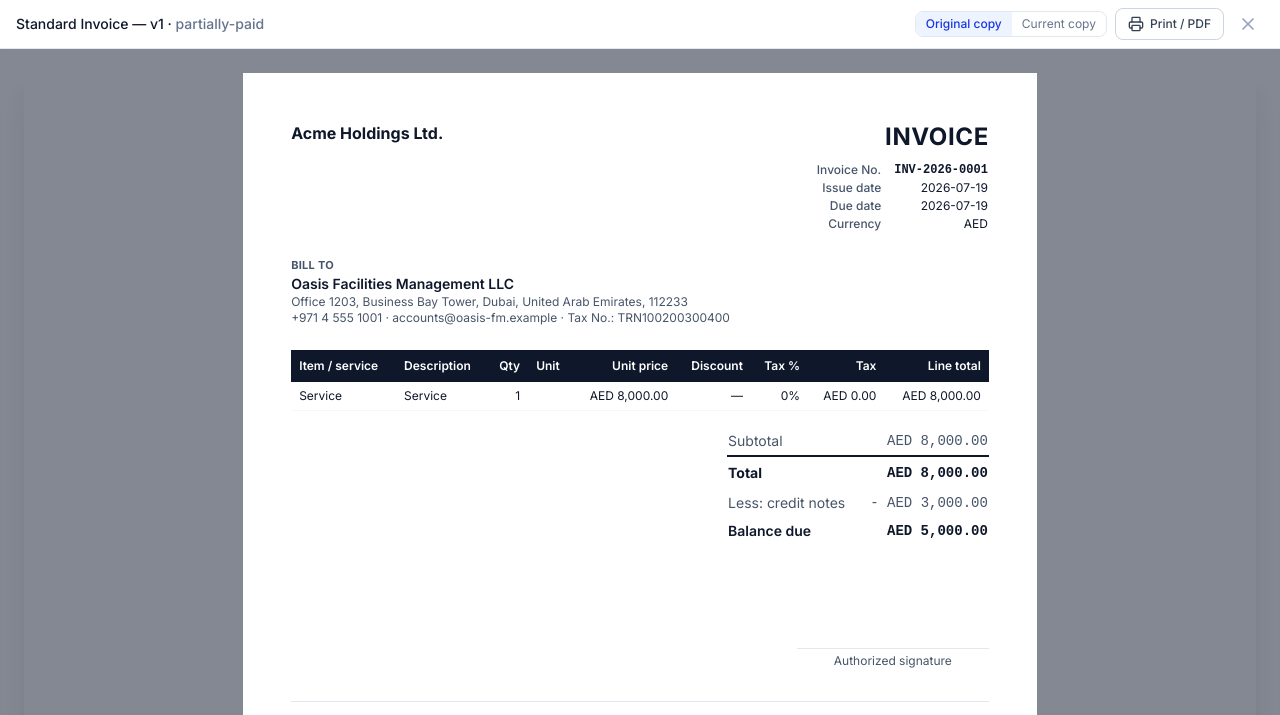
Scenario: InvoicePreviewModal — copy mode wiring › toggling back to Original removes the panel again
Click the button "Current copy" at (1059,24), box [1012,12,1106,36]
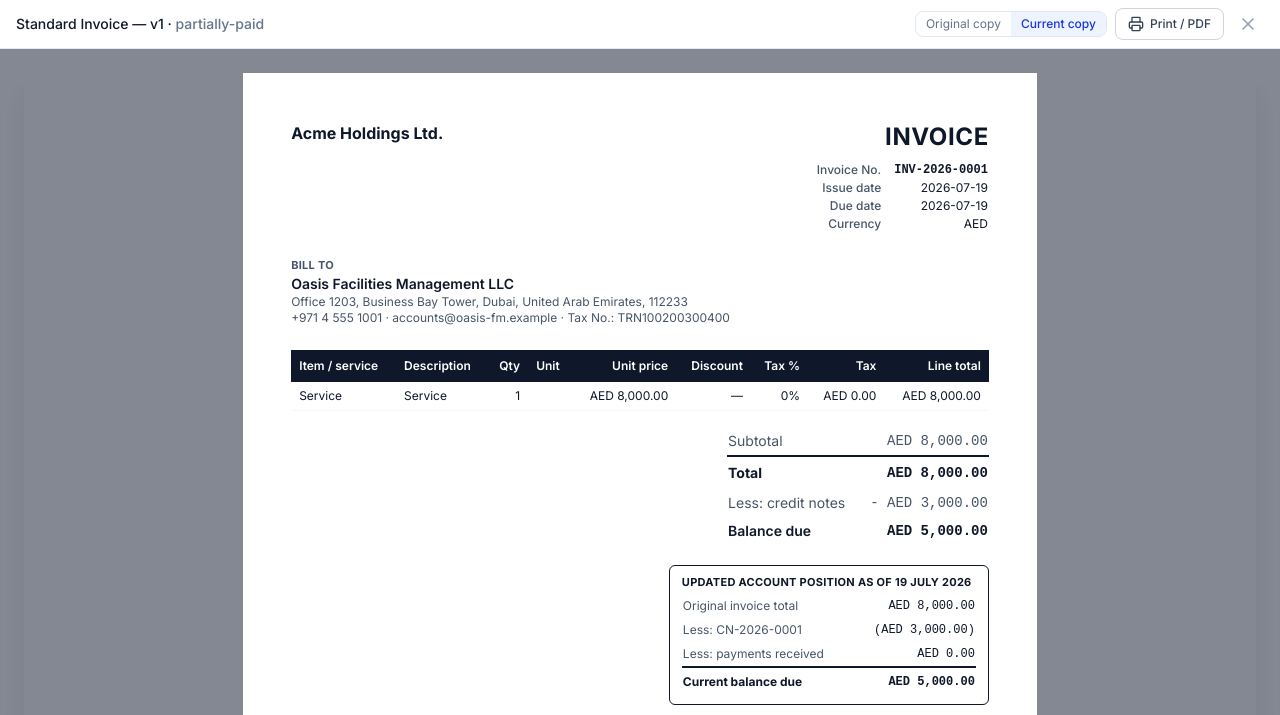
Expected: the text "Updated account position as of 19 July 2026" is shown, [682,574,976,590]
Click the button "Original copy" at (963,24), box [916,12,1011,36]
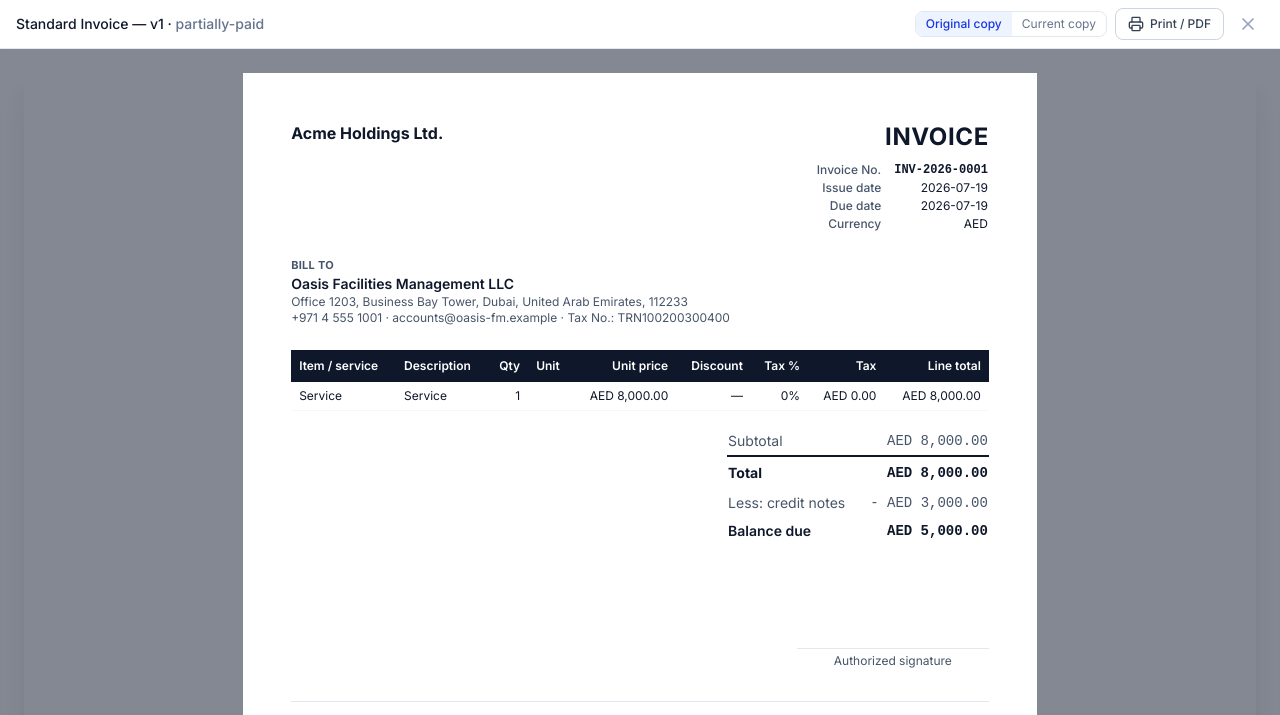
Expected: the text "Updated account position" is gone
